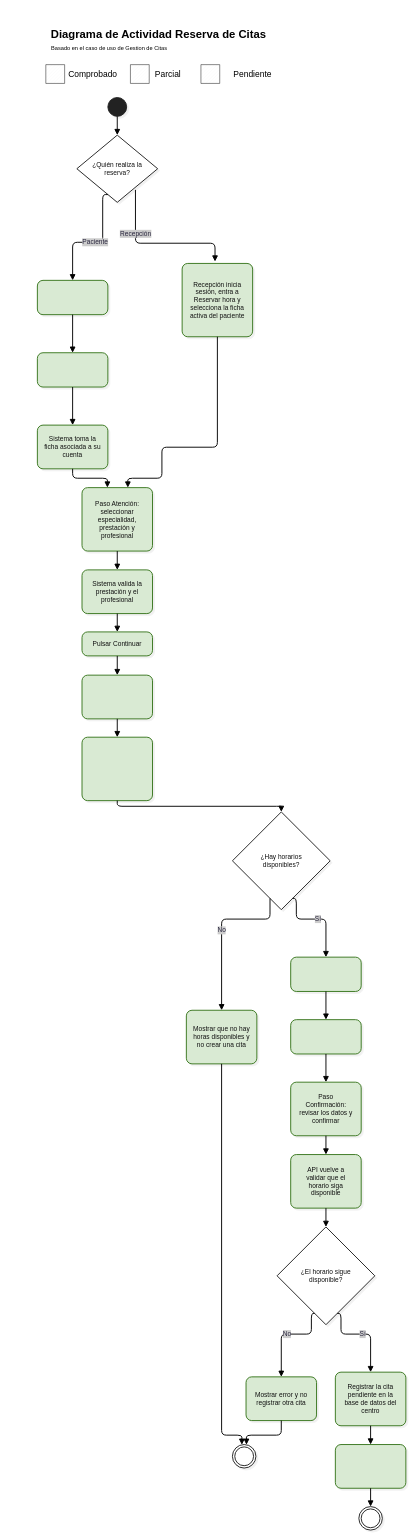
Some shapes in this 416 by 1540 pixel diagram are drawn without their labels. The shapes that lost their labels are listed below. From the top down, each one's centre as x and y in pixels, then its label:
point (73, 298): Paciente inicia sesión
point (73, 370): Paciente entra a Reservar hora
point (118, 697): Paso Horario: seleccionar fecha
point (118, 769): Sistema consulta los horarios y las reservas existentes
point (326, 975): Mostrar horarios disponibles
point (326, 1037): Seleccionar una hora y continuar
point (371, 1467): Mostrar la confirmación de la reserva
